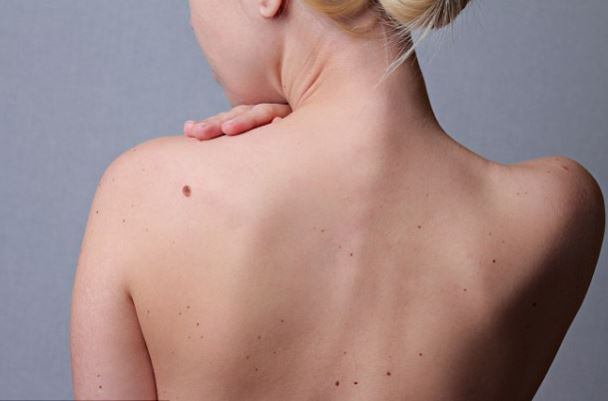mole: (177, 180, 200, 202), (325, 377, 344, 391), (488, 257, 501, 270), (381, 368, 394, 380), (415, 350, 428, 359)
